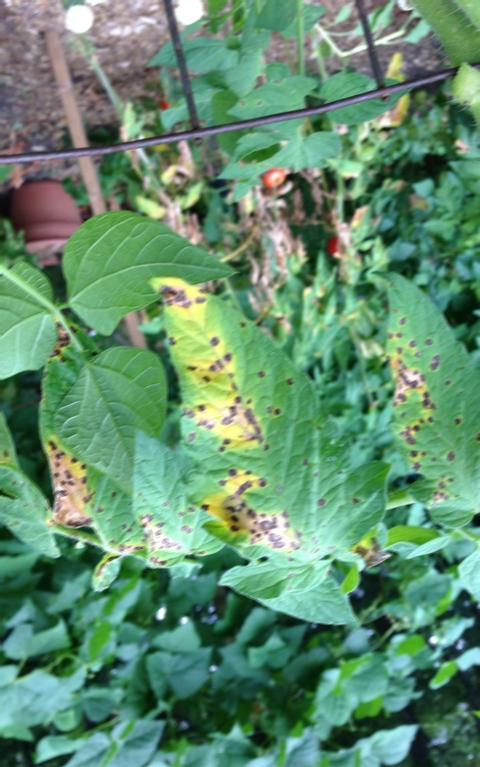Tomato Septoria leaf spot: (150, 276, 354, 556), (374, 279, 480, 529), (137, 418, 196, 562)
Tomato leaf: (0, 259, 58, 397)
